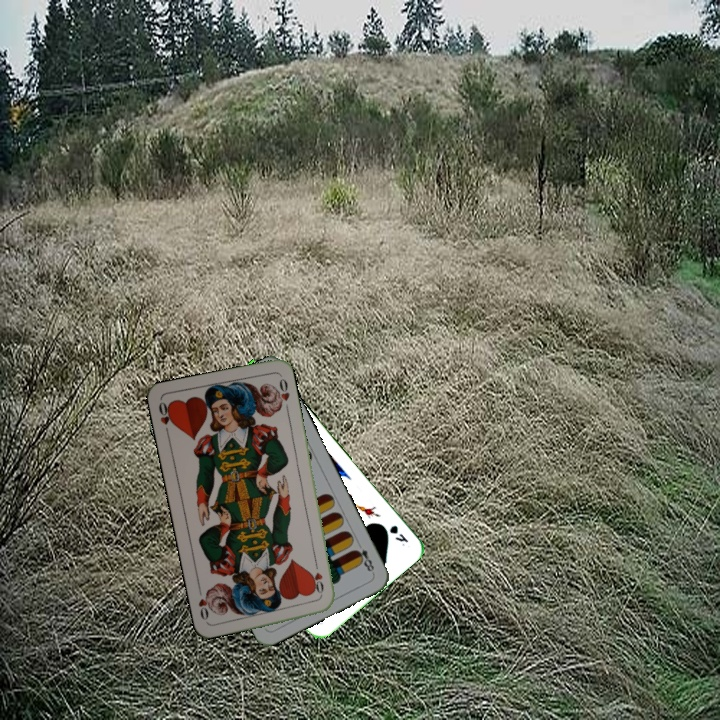E8: (350, 545, 377, 576)
GK: (385, 521, 411, 549)
HO: (154, 398, 176, 438), (310, 558, 326, 599)
